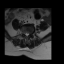CCS_normal: (26, 31, 27, 38)
LFS_severe_stenosis: (29, 32, 31, 36)
LLS_stenosis: (27, 32, 29, 37)
RFS_stenosis: (23, 31, 25, 36)
RLS_normal: (25, 32, 26, 36)
